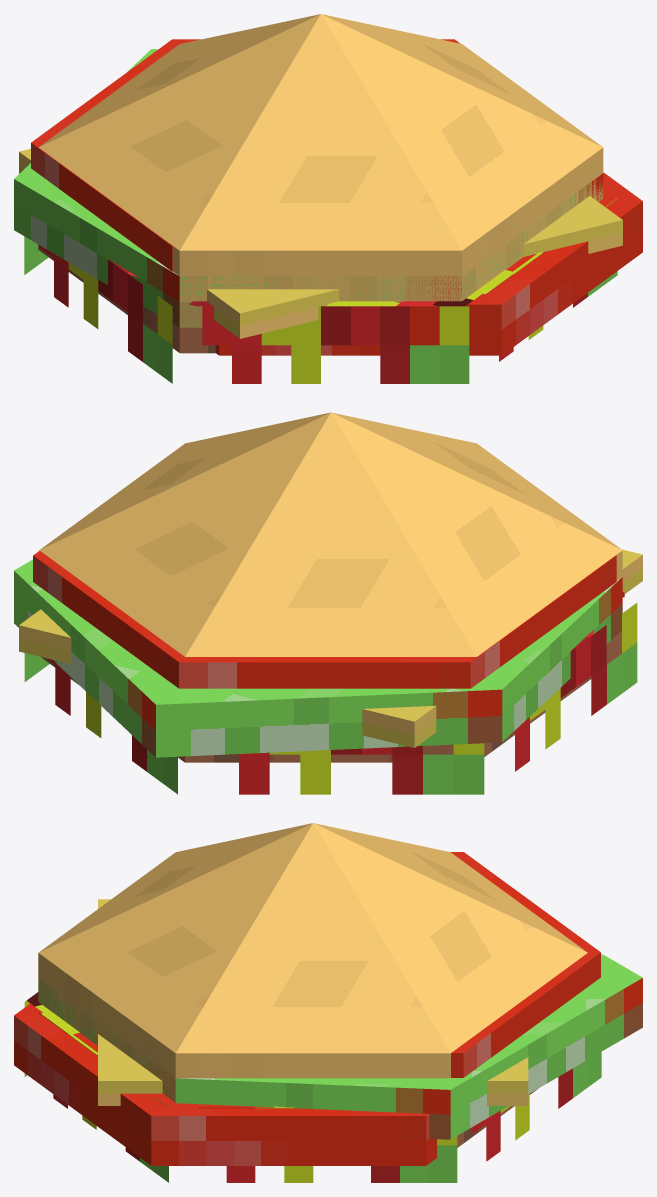
Rendered from burger.glb.
3 views of the same model, one above another, from view 1: azimuth 30°, elevation 25°; view 2: azimuth 150°, elevation 25°; view 3: azimuth 270°, elevation 25° (orthographic). The views are drawn at different scales.
Parts seen in each view (by area): view 1: Bun_Top, Bun_Bottom, Tomato, Ketchup, Lettuce, Cheese, Mustard; view 2: Bun_Top, Lettuce, Tomato, Ketchup, Cheese, Mustard, Bun_Bottom; view 3: Bun_Top, Tomato, Lettuce, Bun_Bottom, Ketchup, Cheese, Mustard.
Part boxes in pixels (box(x1,y1,x2,y2)): Bun_Top: box(38, 14, 602, 250); Bun_Bottom: box(38, 148, 603, 353); Tomato: box(31, 39, 642, 355); Ketchup: box(24, 236, 617, 383); Lettuce: box(14, 49, 603, 327); Cheese: box(19, 148, 622, 338); Mustard: box(68, 198, 617, 383); Bun_Top: box(39, 412, 622, 656); Lettuce: box(14, 559, 622, 757); Tomato: box(33, 551, 616, 688); Ketchup: box(24, 592, 637, 794); Cheese: box(19, 549, 642, 747); Mustard: box(86, 603, 637, 794); Bun_Bottom: box(39, 550, 622, 762); Bun_Top: box(38, 823, 587, 1053); Tomato: box(14, 852, 600, 1165); Lettuce: box(38, 953, 642, 1139); Bun_Bottom: box(38, 953, 538, 1147); Ketchup: box(24, 992, 601, 1182); Cheese: box(98, 899, 528, 1105); Mustard: box(24, 1000, 529, 1182).
Size of the model in its own units: 1.94 by 1.02 by 2.29.
Materials: 1 (1 with a texture image).
